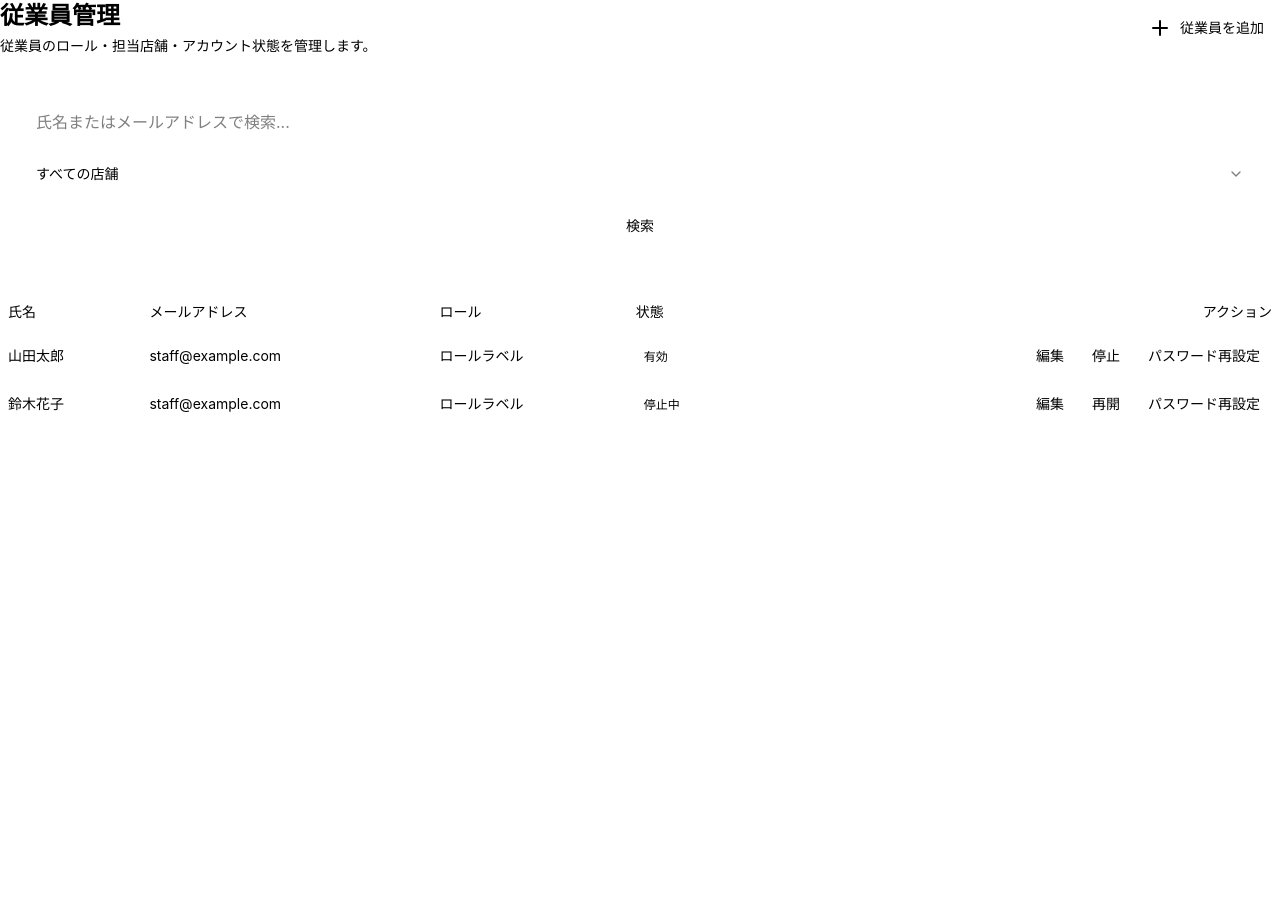
Scenario: 停止・再開 › 確認をキャンセルすると停止しないこと
Click the button "停止" at (1106, 356), box [1080,340,1132,372]
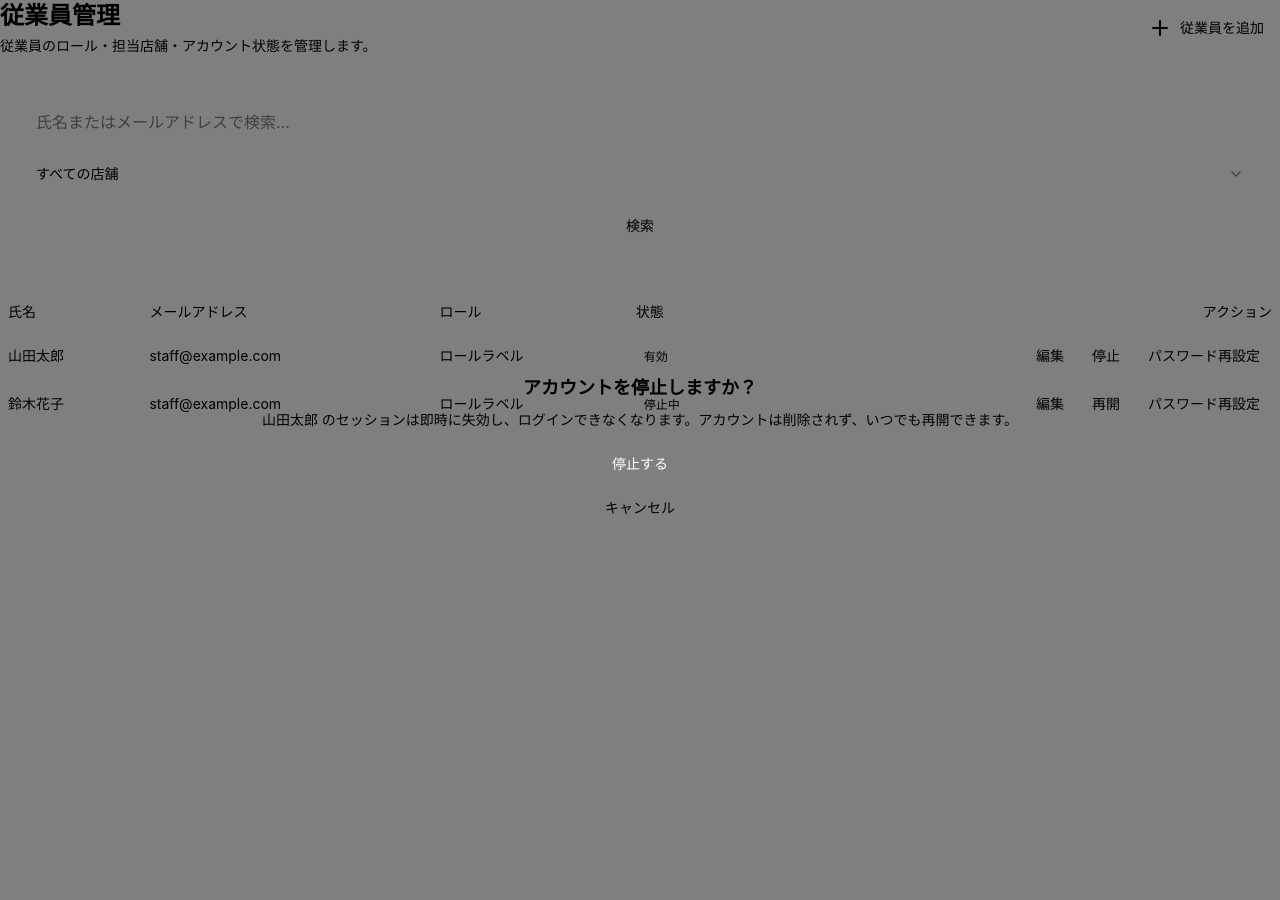
Check: the heading "アカウントを停止しますか？" is shown, box [523,377,757,398]
Click the button "キャンセル" at (640, 508), box [40,490,1240,526]
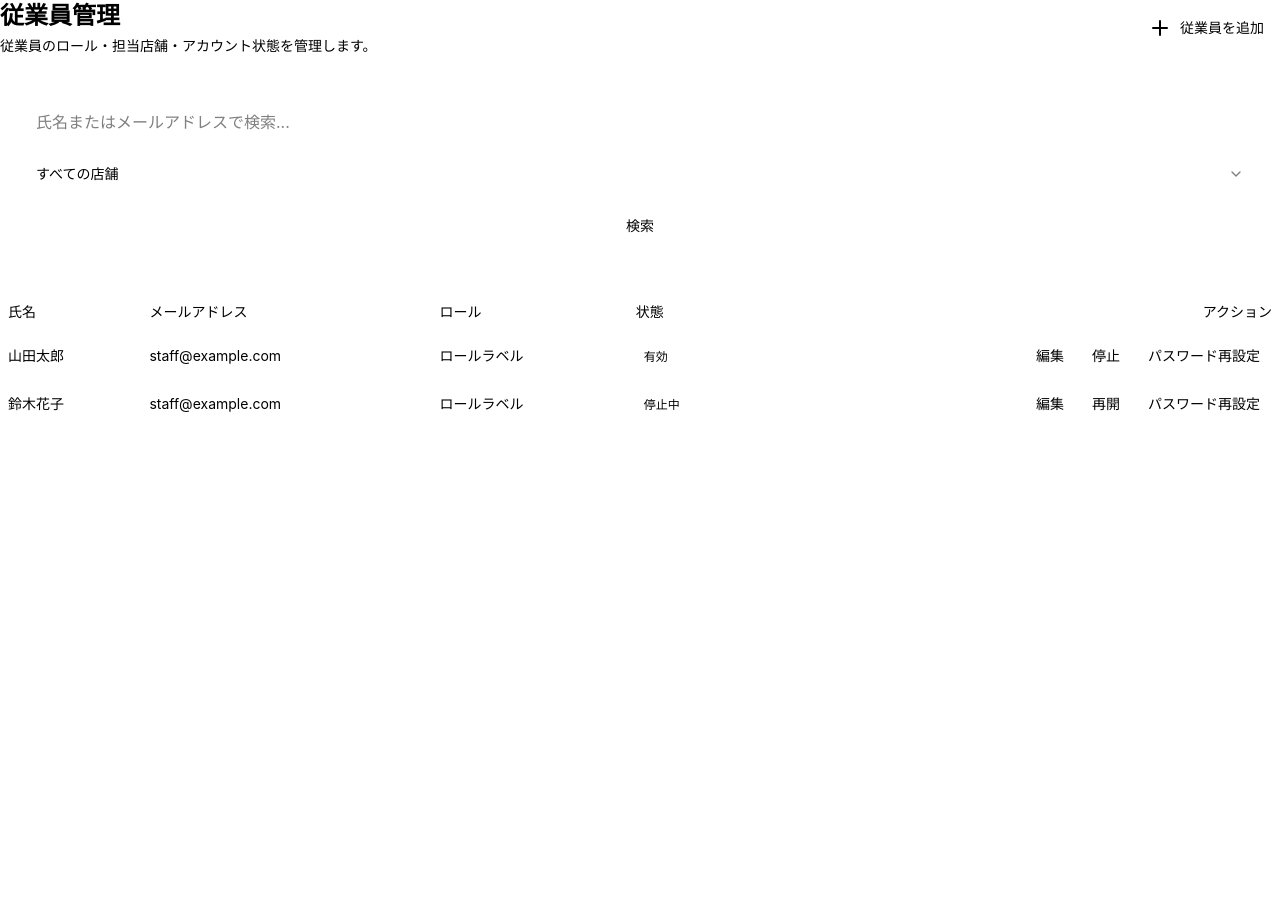
Check: the heading "アカウントを停止しますか？" is gone
